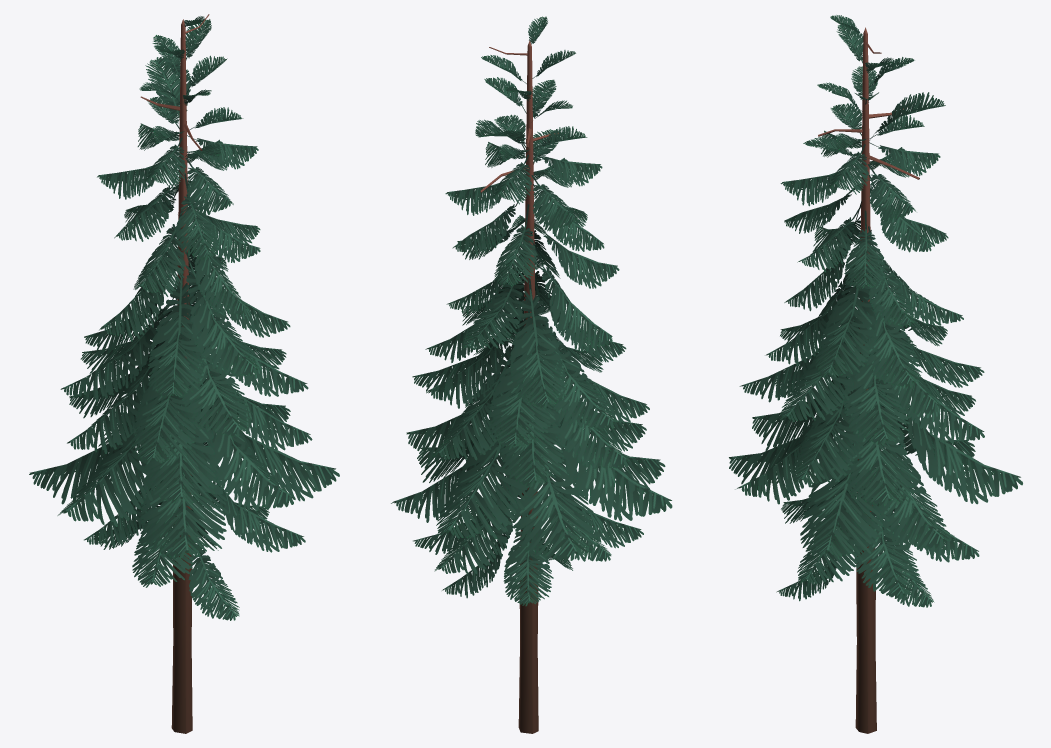
Rendered from Pine_Tree_2G.fbx.
3 views of the same model, side by side, from view 1: azimuth 30°, elevation 25°; view 2: azimuth 150°, elevation 25°; view 3: azimuth 270°, elevation 25° (orthographic). The views are drawn at different scales.
Parts seen in each view (by area): view 1: Pine_Tree_2G; view 2: Pine_Tree_2G; view 3: Pine_Tree_2G.
Boxes of the visible parts, left/top/right/bottom form: Pine_Tree_2G: left=29, top=14, right=339, bottom=733; Pine_Tree_2G: left=391, top=16, right=672, bottom=733; Pine_Tree_2G: left=729, top=15, right=1022, bottom=733.
Size of the model in its own units: 3.72 by 8.75 by 3.58.
